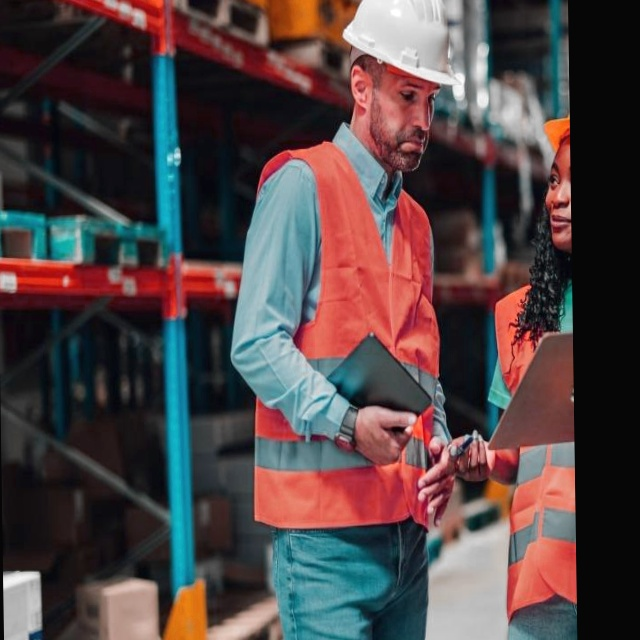Con_Casco: (343, 0, 460, 170)
Con_Chaleco: (240, 148, 441, 529)
